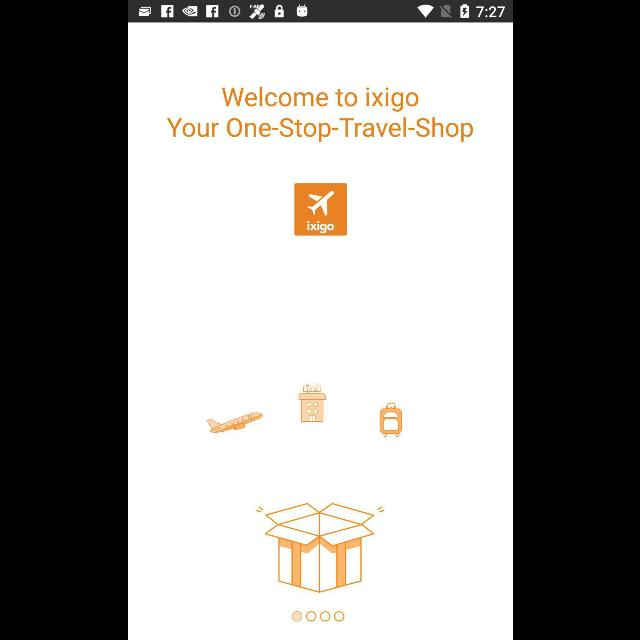image: (256, 502, 384, 594), (294, 184, 346, 236), (206, 412, 262, 433), (298, 384, 326, 422), (378, 403, 402, 437)
pageindicator: (292, 610, 344, 622)
text: (165, 86, 472, 144)
uppertaskbar: (128, 1, 512, 23)
